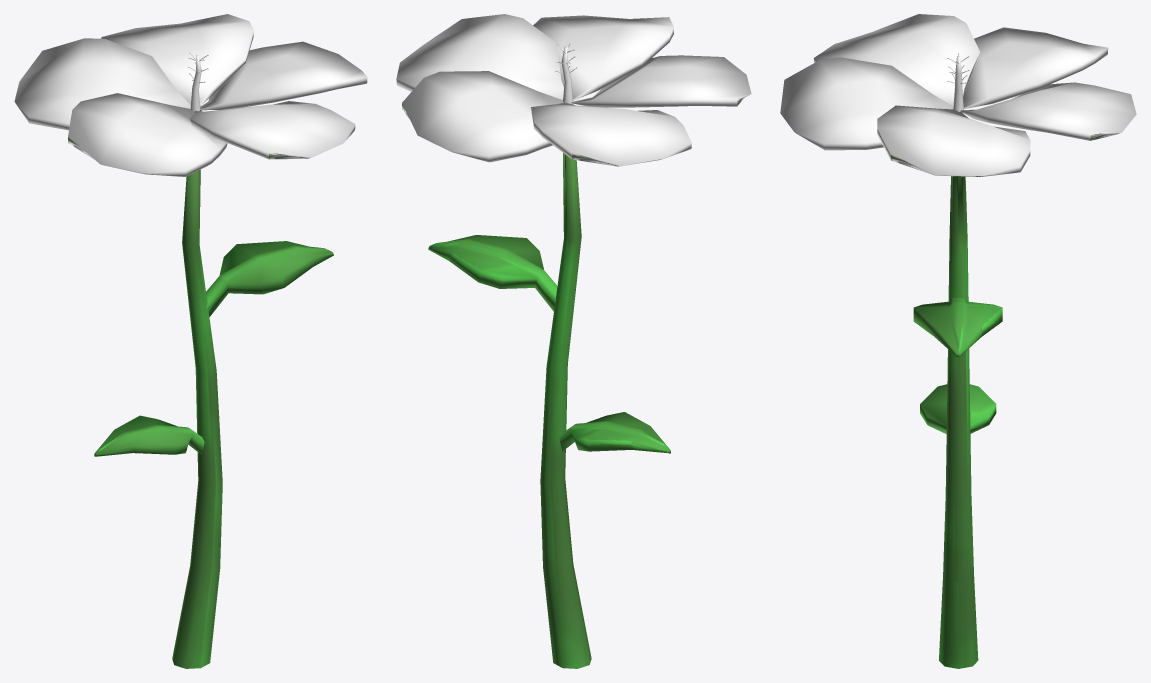
Rendered from Hibisco.fbx.
3 views of the same model, side by side, from view 1: azimuth 30°, elevation 25°; view 2: azimuth 150°, elevation 25°; view 3: azimuth 270°, elevation 25° (orthographic).
Visible parts, largest first — view 1: Hibisco; view 2: Hibisco; view 3: Hibisco.
Part boxes in pixels (box(x1,y1,x2,y2)): Hibisco: box(14, 14, 367, 668); Hibisco: box(396, 14, 751, 668); Hibisco: box(780, 14, 1136, 668).
Bounding box in the file's own units: 152 × 291 × 155.
